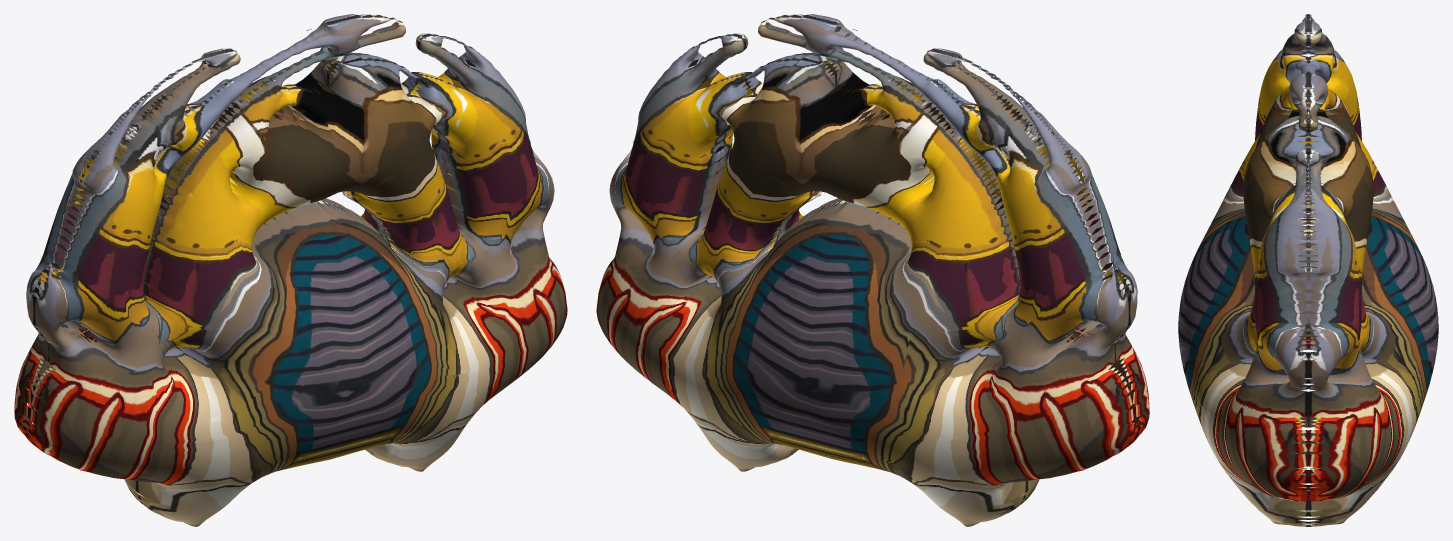
Rendered from broken_reactor.glb.
The picture shows the model from 3 angles, left to right: view 1: azimuth 30°, elevation 25°; view 2: azimuth 150°, elevation 25°; view 3: azimuth 270°, elevation 25°; orthographic projection. The views are drawn at different scales.
Visible parts, largest first — view 1: broken_reactor; view 2: broken_reactor; view 3: broken_reactor.
Boxes of the visible parts, x1=… form: broken_reactor: x1=14, y1=14, x2=567, y2=526; broken_reactor: x1=596, y1=14, x2=1149, y2=526; broken_reactor: x1=1178, y1=14, x2=1438, y2=526.
Bounding box in the file's own units: 0.9884 × 0.8045 × 0.4553.
Materials: 1 (1 with a texture image).
